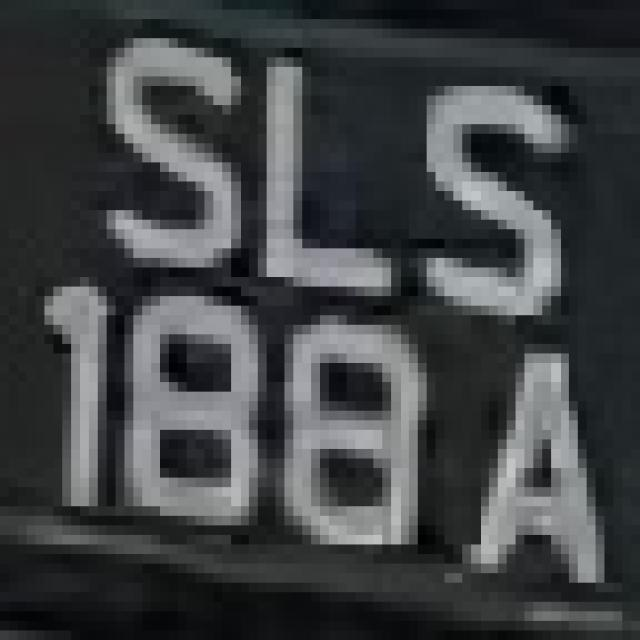1: (9, 248, 142, 564)
8: (106, 277, 284, 573), (266, 296, 436, 592)
A: (462, 334, 596, 621)
L: (222, 38, 409, 344)
S: (391, 29, 578, 315), (89, 28, 258, 286)
